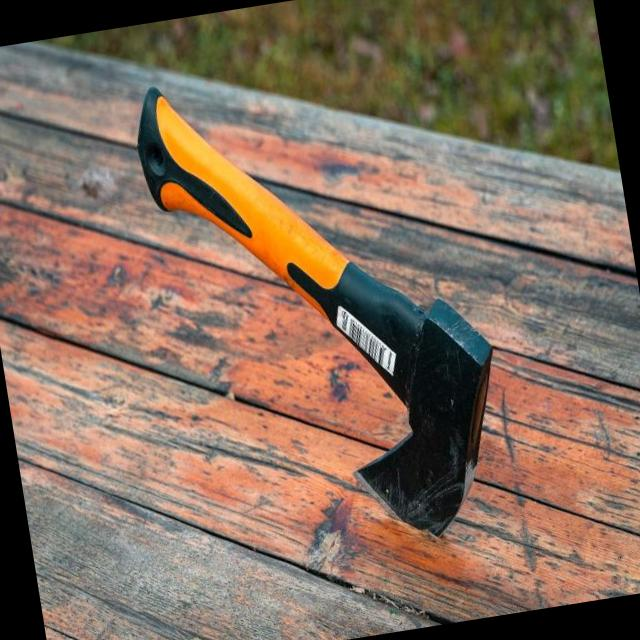Axe: (137, 87, 491, 534)
